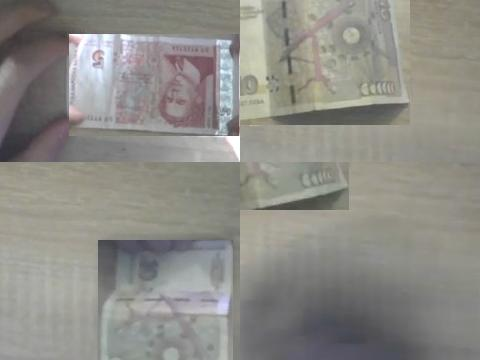10leva: (240, 0, 410, 122), (98, 240, 233, 360)
5leva: (69, 34, 239, 136)
